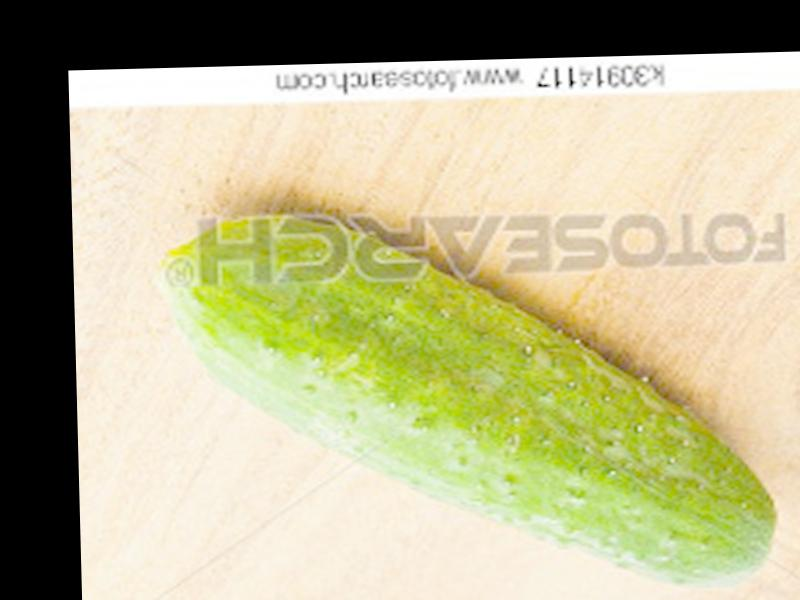Cucumber: (156, 197, 779, 600)
